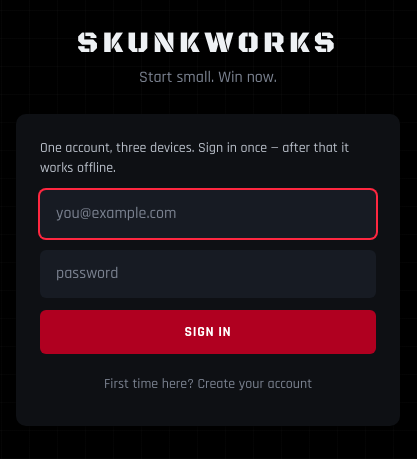
Scenario: SignIn › points an already-registered email back to sign-in
Click the button "First time here? Create your account" at (208, 384), box 40,366 -> 376,402
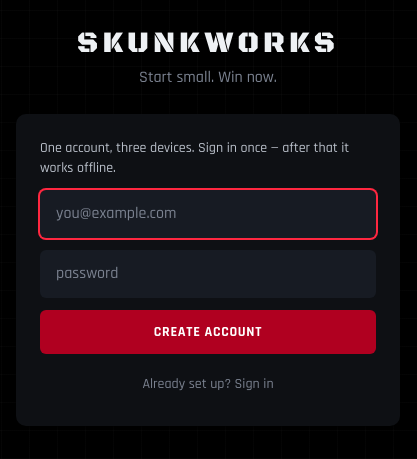
Type "tim@example.com" into the field named "email" at (208, 214), box 40,190 -> 376,238
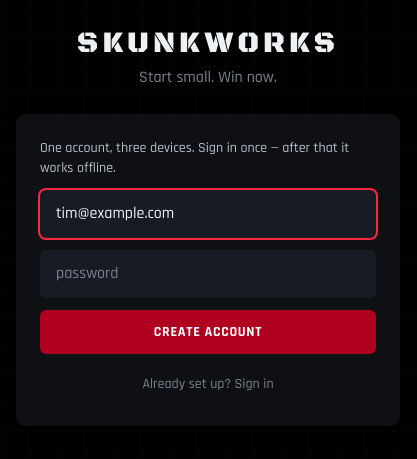
Type "hunter22" into the password field labelled "password" at (208, 274), box 40,250 -> 376,298
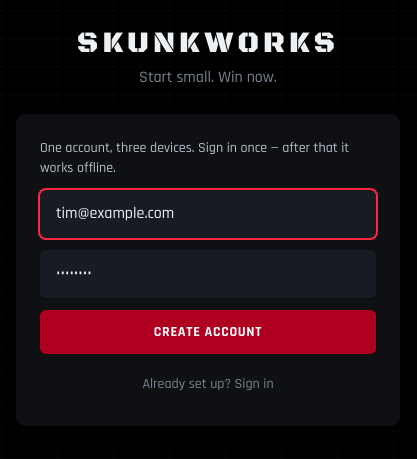
Click the button "Create account" at (208, 332), box 40,310 -> 376,354
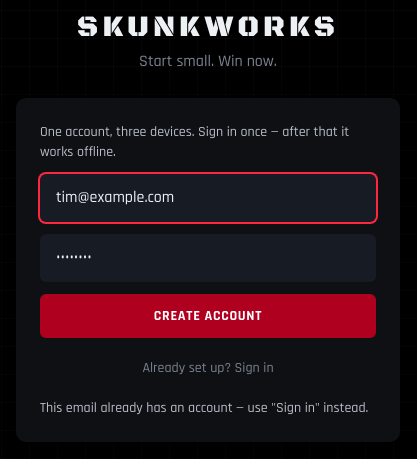
Expected: the message shows "already has an account", 40,399 -> 368,417
